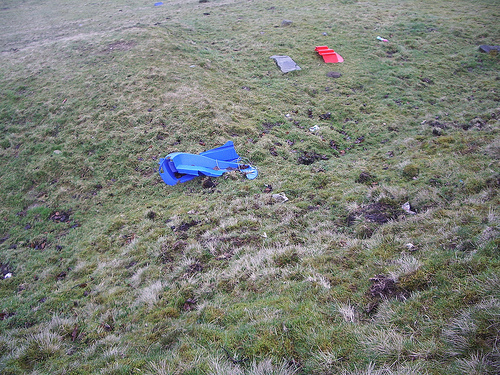litter: (157, 143, 256, 187), (269, 55, 302, 75), (315, 44, 345, 64), (376, 34, 387, 41)
